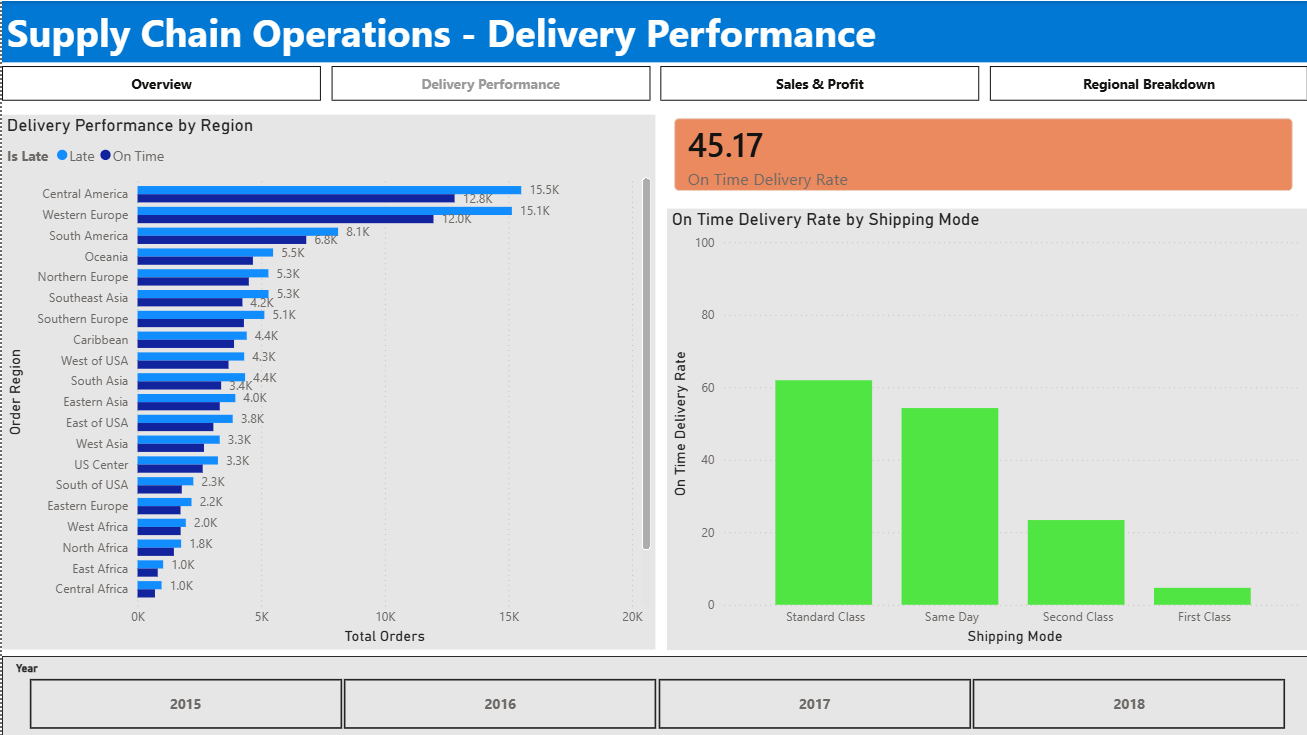

This screenshot's page, from the dashboard's own definition file:
{"tool":"powerbi","page":{"name":"Delivery Performance","canvas":[1280,720],"ordinal":1},"visuals":[{"type":"clusteredBarChart","title":"Delivery Performance by Region","fields":{"Category":["DataCoSupplyChainDataset.Order Region"],"Y":["_Measures.Total Orders"],"Series":["DataCoSupplyChainDataset.Is Late"]},"box":[0,111.3,639.5,523.4],"z":0},{"type":"clusteredColumnChart","fields":{"Category":["DataCoSupplyChainDataset.Shipping Mode"],"Y":["_Measures.On Time Delivery Rate"]},"box":[650.5,203,629.8,431.7],"z":1000},{"type":"cardVisual","fields":{"Data":["_Measures.On Time Delivery Rate"]},"box":[640.8,97.8,639.5,105.2],"z":2000},{"type":"slicer","fields":{"Values":["Date Table.Year"]},"box":[0,640.5,1280.3,79.5],"z":3000},{"type":"textbox","box":[0,0,1279.1,60],"z":4000},{"type":"pageNavigator","box":[0,63.6,1280.3,34.2],"z":5000}]}

Visuals, with their boxes in screenshot pixels (x1, y1, x2, y2), scaled from the page's 1280x720 canvas onto the 1307x735 screenshot:
"Delivery Performance by Region" clusteredBarChart: bbox(0, 114, 653, 648)
clusteredColumnChart - DataCoSupplyChainDataset.Shipping Mode x _Measures.On Time Delivery Rate: bbox(664, 207, 1306, 648)
cardVisual - _Measures.On Time Delivery Rate: bbox(654, 100, 1306, 207)
slicer - Date Table.Year: bbox(0, 654, 1306, 734)
textbox: bbox(0, 0, 1306, 61)
pageNavigator: bbox(0, 65, 1306, 100)
